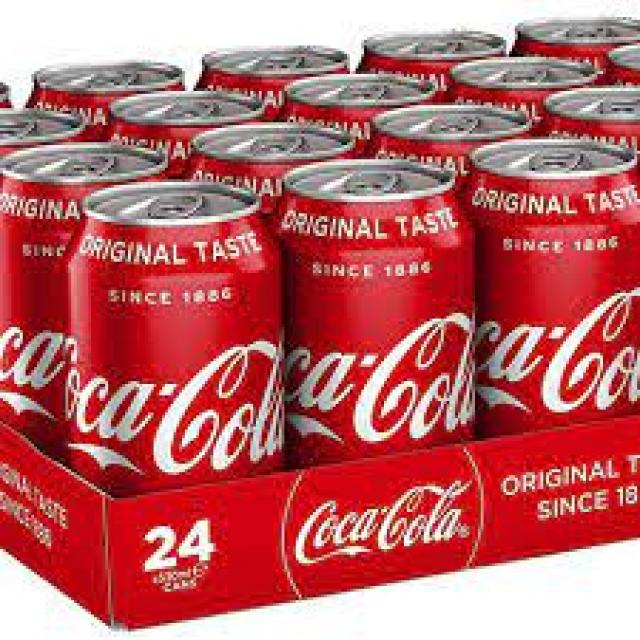Coca-Cola: (68, 182, 289, 604), (278, 157, 484, 576), (476, 141, 640, 535), (0, 139, 162, 532)
